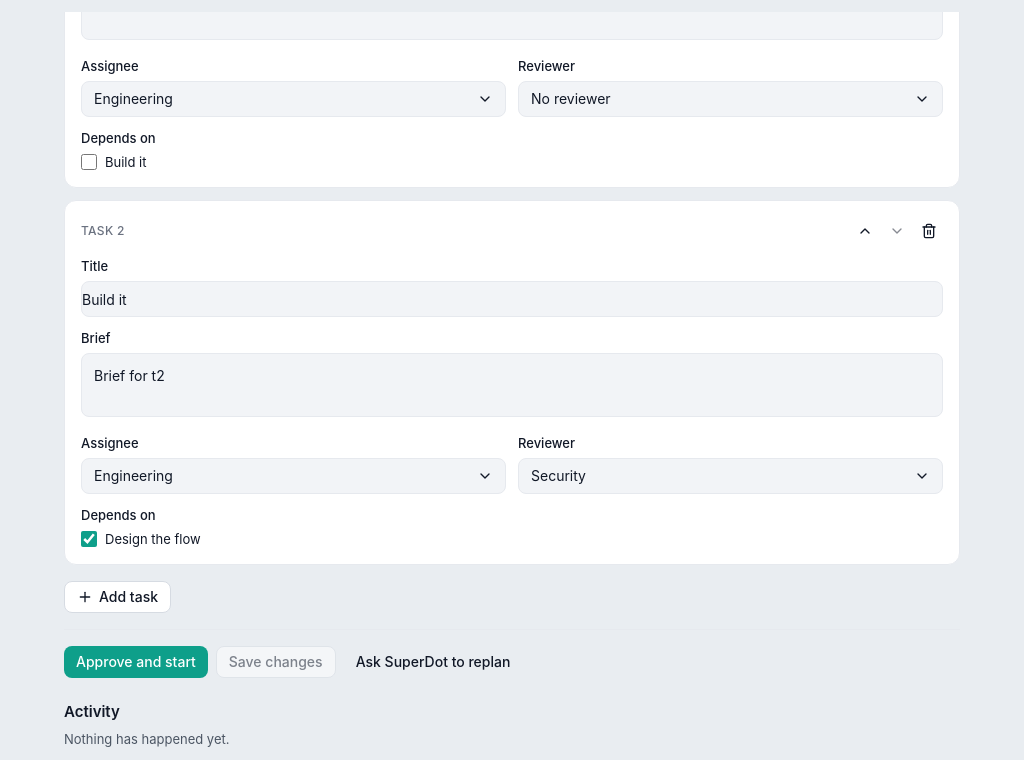
Test case: plan editor › flags an empty plan and a reviewer who is also the assignee
The image size is (1024, 760).
(page scrolled)
Press Enter in the dropdown named "Reviewer for task 2", box [518,458,943,494]
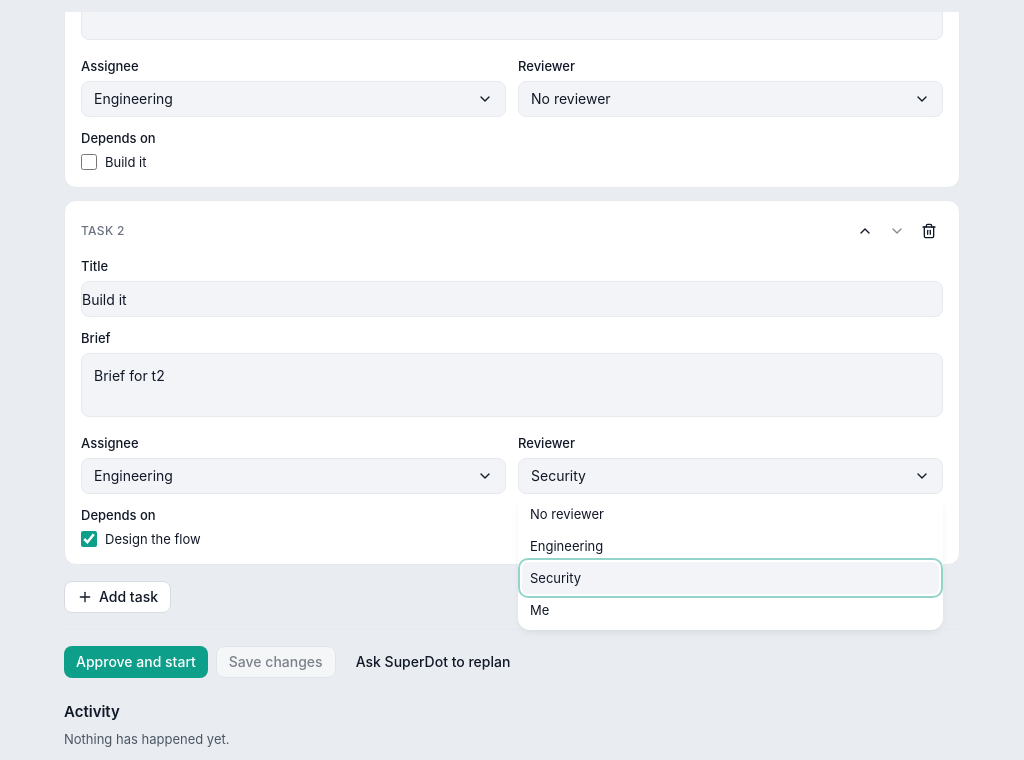
Click the option "Engineering" at (567, 546), box [530,538,603,554]
(page scrolled)
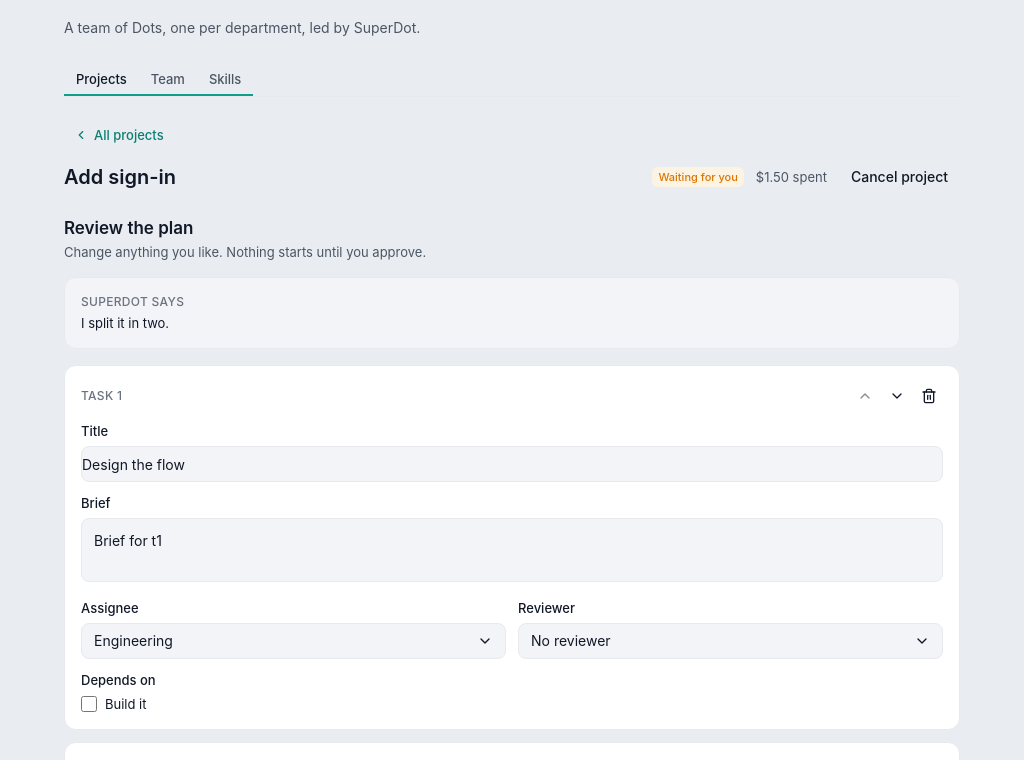
Click the 1st button named "Remove task" at (929, 396), box [915,382,943,410]
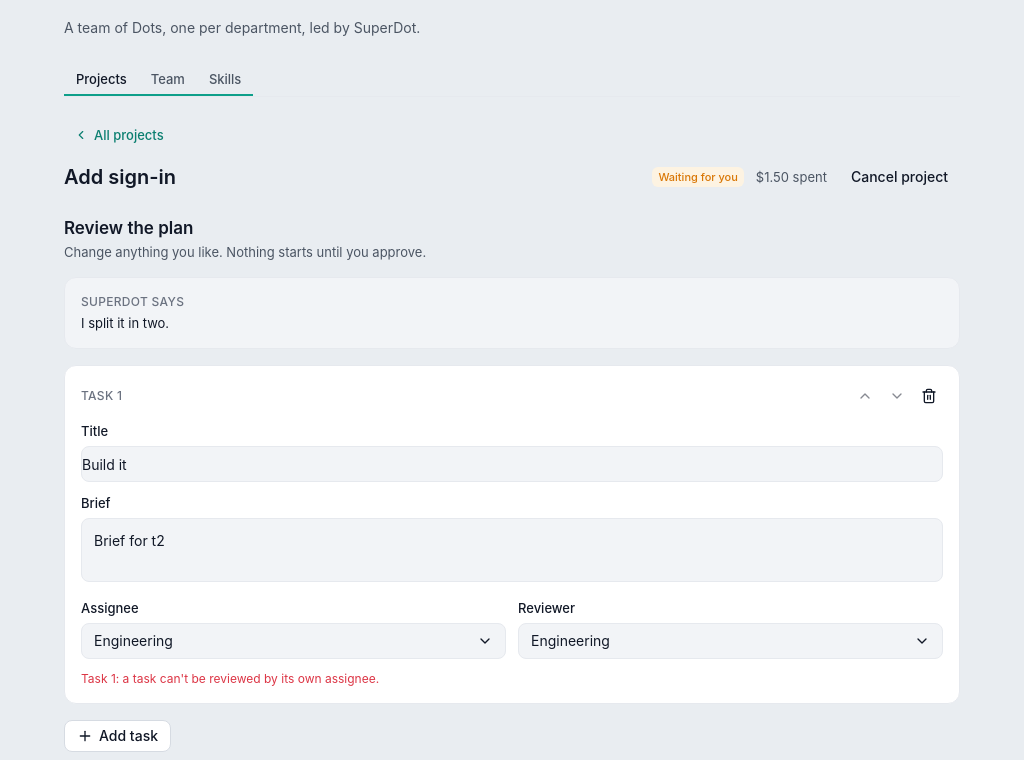
Click the button named "Remove task" at (929, 396), box [915,382,943,410]
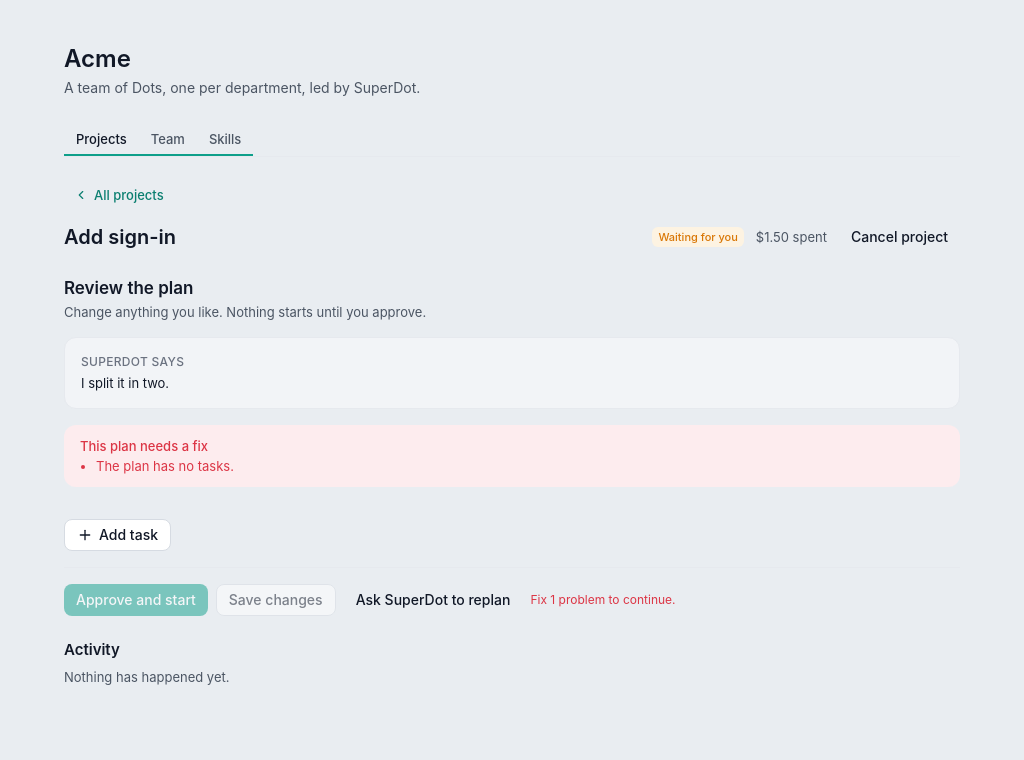
Result: the list item "The plan has no tasks." is shown at [96,458,234,474]
